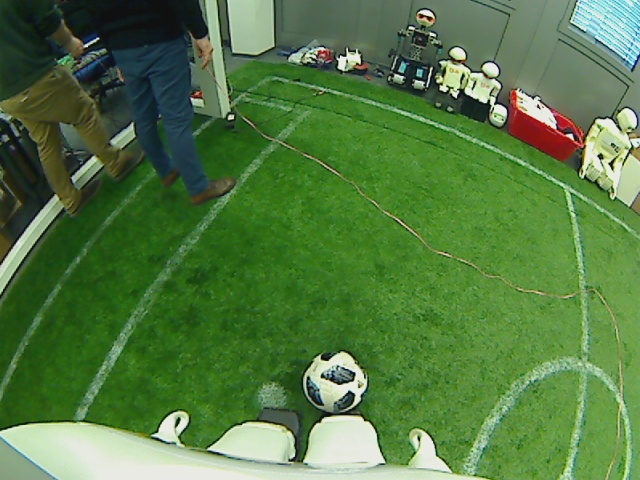ball: (299, 348, 370, 416)
